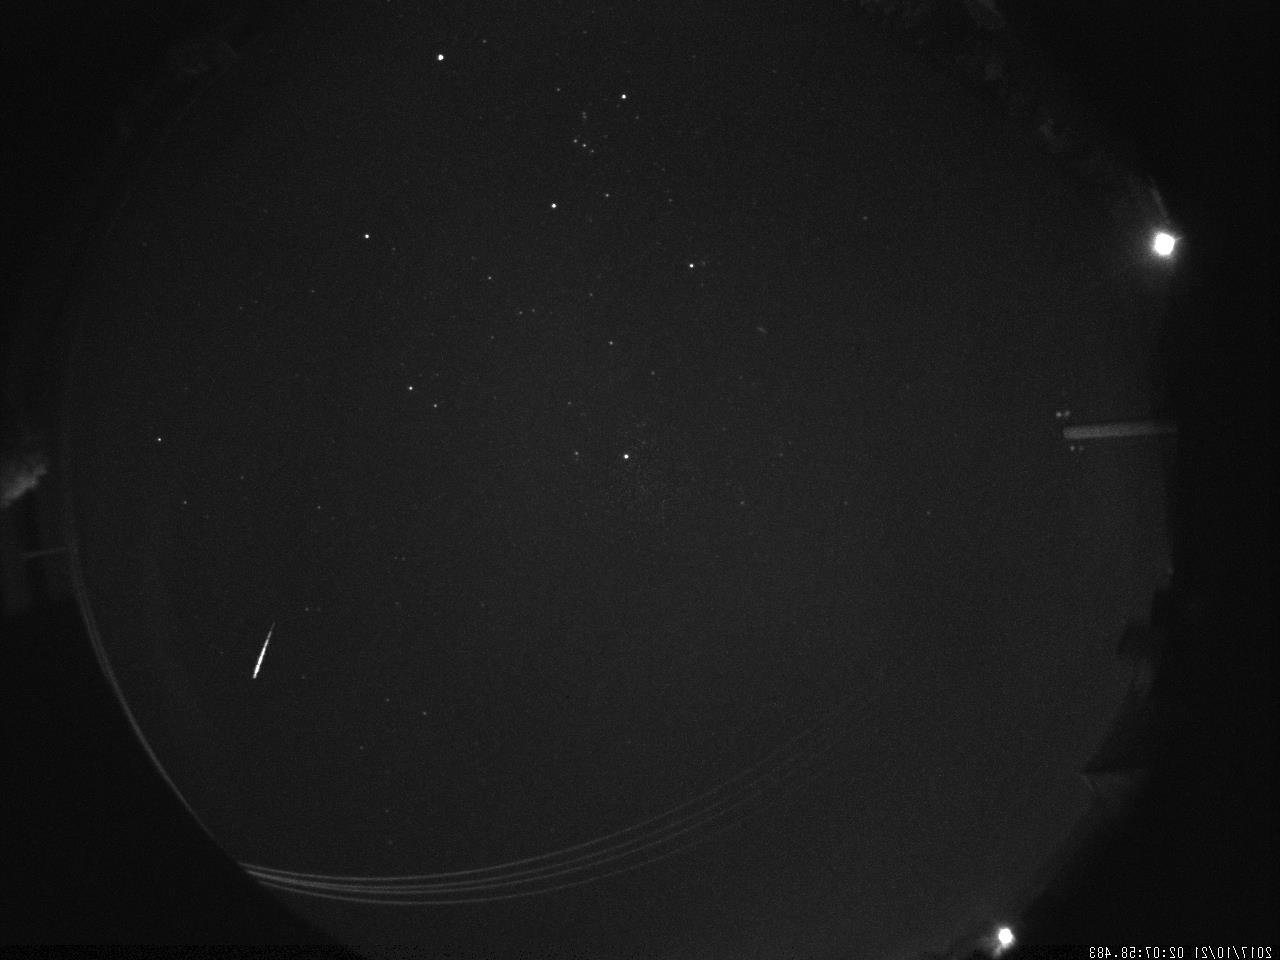meteor: (236, 603, 286, 690)
